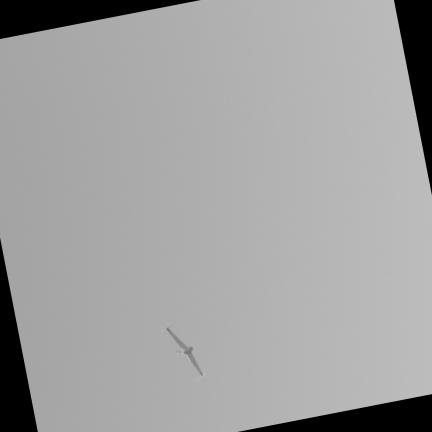Shahed: (165, 325, 203, 376)
